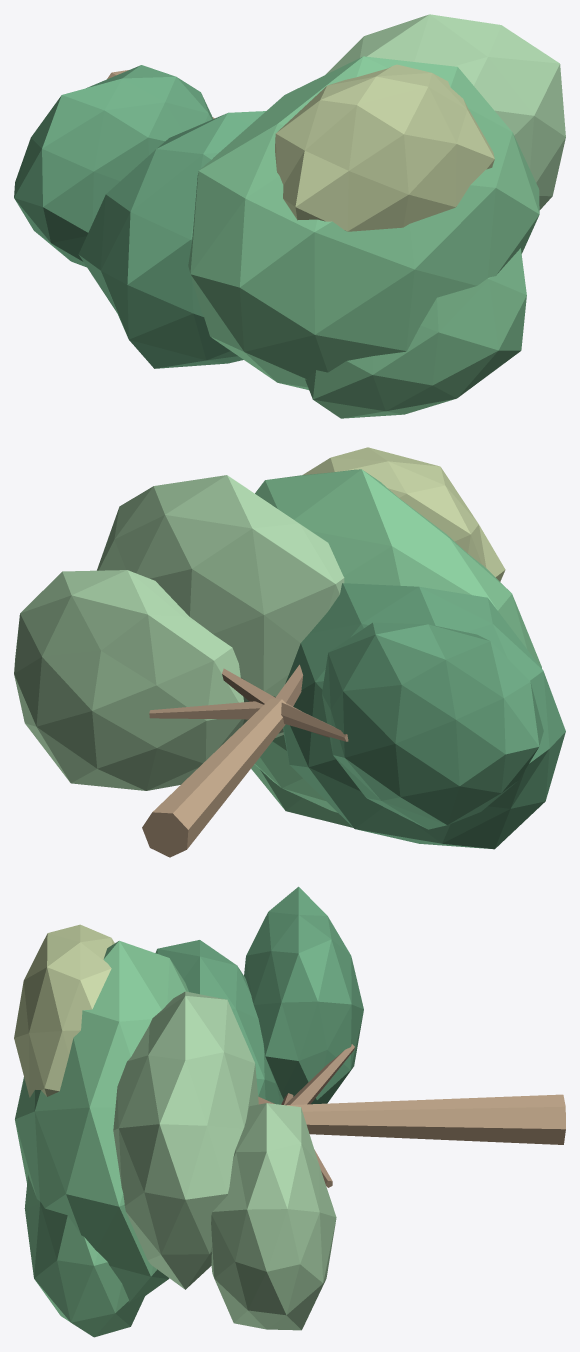
File: tree_oak_wide.glb
The picture shows the model from 3 angles, top to bottom: view 1: azimuth 30°, elevation 25°; view 2: azimuth 150°, elevation 25°; view 3: azimuth 270°, elevation 25°; orthographic projection. The views are drawn at different scales.
Visible parts, largest first — view 1: tree_oak_wide_leaf_mid, tree_oak_wide_leaf_dark, tree_oak_wide_leaf_sage, tree_oak_wide_leaf_light; view 2: tree_oak_wide_leaf_light, tree_oak_wide_leaf_dark, tree_oak_wide_leaf_mid, tree_oak_wide_bark, tree_oak_wide_leaf_sage, tree_oak_wide_bark_dark; view 3: tree_oak_wide_leaf_light, tree_oak_wide_leaf_mid, tree_oak_wide_leaf_dark, tree_oak_wide_bark, tree_oak_wide_leaf_sage, tree_oak_wide_bark_dark.
Part boxes in pixels (bbox=[...]): tree_oak_wide_leaf_mid: bbox=[188, 56, 539, 418]; tree_oak_wide_leaf_dark: bbox=[14, 65, 265, 368]; tree_oak_wide_leaf_sage: bbox=[275, 64, 494, 231]; tree_oak_wide_leaf_light: bbox=[325, 14, 565, 209]; tree_oak_wide_leaf_light: bbox=[14, 475, 344, 790]; tree_oak_wide_leaf_dark: bbox=[283, 583, 565, 849]; tree_oak_wide_leaf_mid: bbox=[251, 469, 541, 827]; tree_oak_wide_bark: bbox=[142, 698, 286, 857]; tree_oak_wide_leaf_sage: bbox=[302, 447, 505, 581]; tree_oak_wide_bark_dark: bbox=[149, 664, 348, 741]; tree_oak_wide_leaf_light: bbox=[113, 991, 336, 1330]; tree_oak_wide_leaf_mid: bbox=[15, 940, 188, 1337]; tree_oak_wide_leaf_dark: bbox=[155, 886, 363, 1104]; tree_oak_wide_bark: bbox=[287, 1094, 565, 1144]; tree_oak_wide_leaf_sage: bbox=[14, 924, 114, 1097]; tree_oak_wide_bark_dark: bbox=[258, 1044, 354, 1187].
Size of the model in its own units: 6.03 by 3.9 by 5.38.
